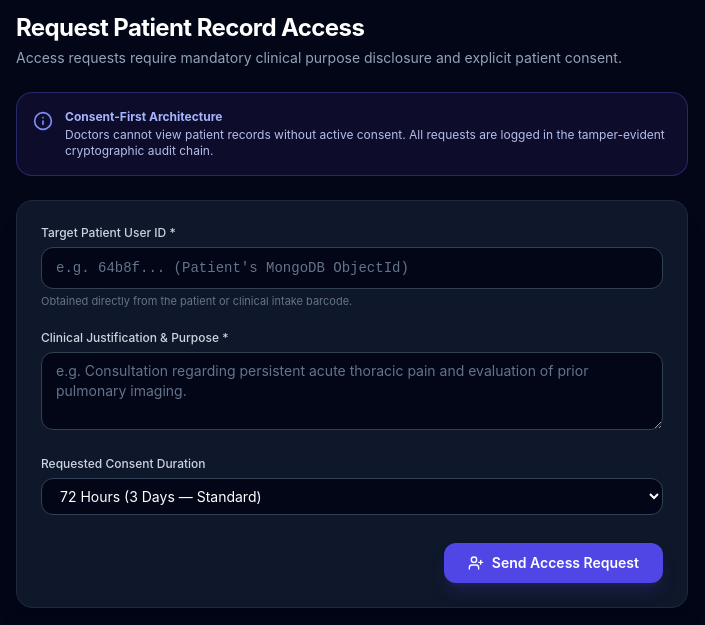
Test: Checkpoint 12 - Doctor Dashboard & Consent-Aware UI › Doctor Dashboard & Requests Lifecycle › submits a new patient access request with stated clinical purpose
The width and height of the screenshot is (705, 625).
Type "patient-abc" into the field labelled "Target Patient User ID *" at (352, 268), box [41,247,663,289]
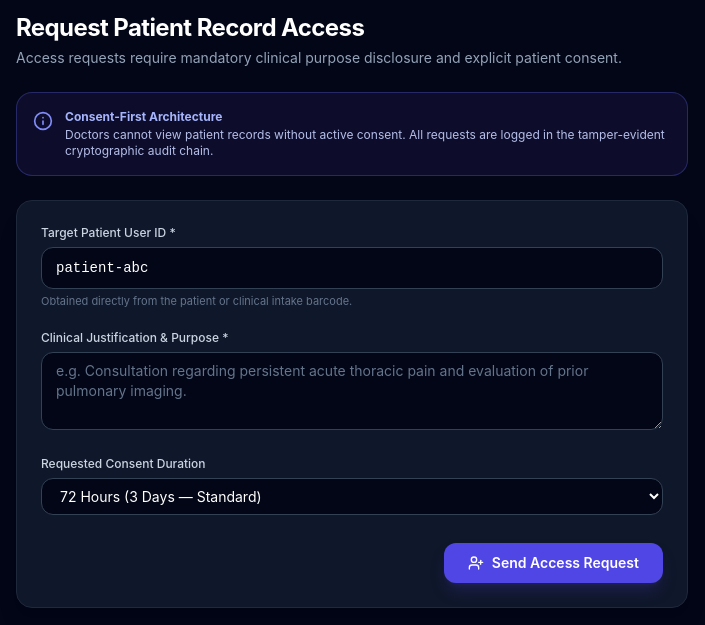
Replace the text in the text box labelled "Clinical Justification & Purpose *" with "Preoperative cardiac clearance" at (352, 390), box [41,352,663,430]
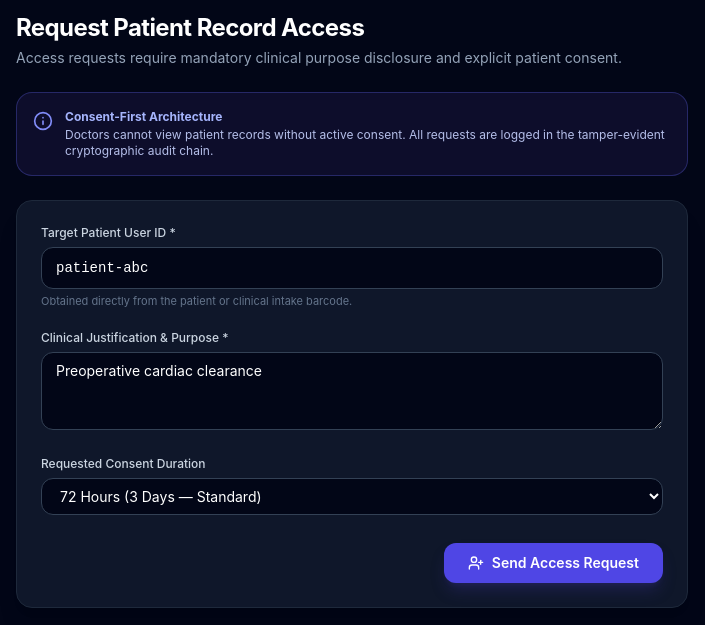
Click the button "Send Access Request" at (553, 562), box [444,542,663,582]
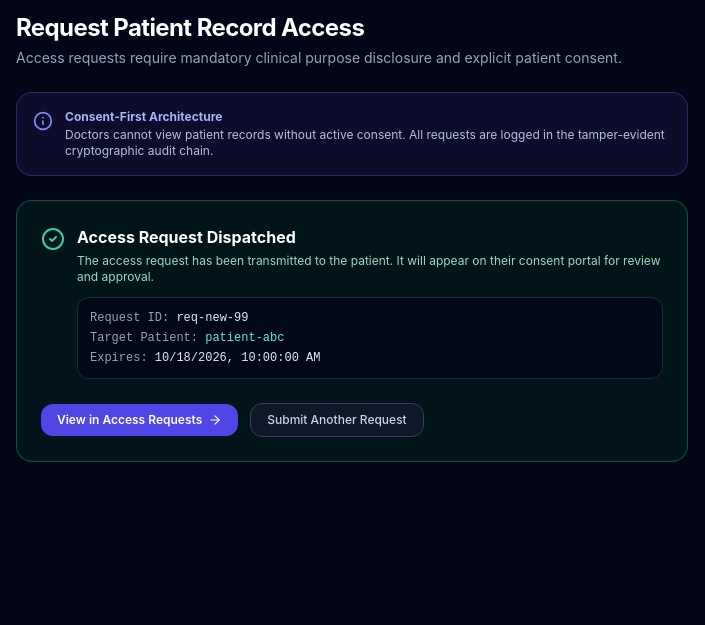
Result: the heading "Access Request Dispatched" is shown at [77,227,296,247]
